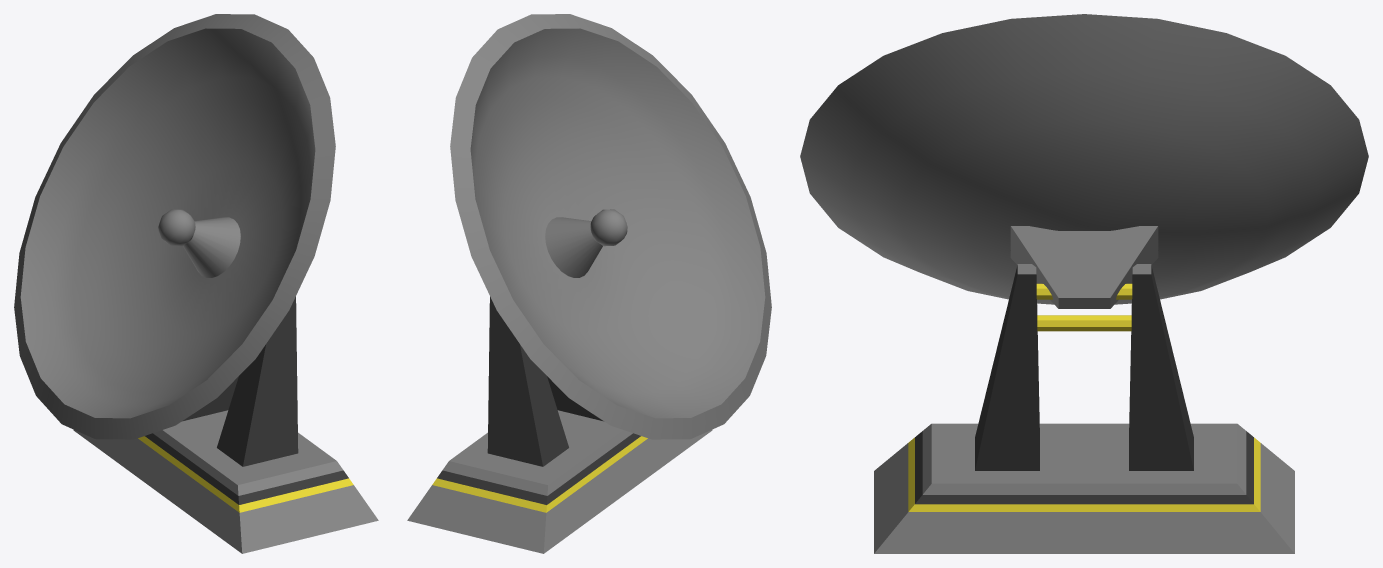
The model's file is satelliteDish.glb.
The picture shows the model from 3 angles, left to right: view 1: azimuth 30°, elevation 25°; view 2: azimuth 150°, elevation 25°; view 3: azimuth 270°, elevation 25°; orthographic projection. The views are drawn at different scales.
Parts seen in each view (by area): view 1: Satallite Dish; view 2: Satallite Dish; view 3: Satallite Dish.
Boxes of the visible parts, x1,y1,x2,y2 form: Satallite Dish: (14, 14, 378, 553); Satallite Dish: (407, 14, 771, 553); Satallite Dish: (800, 14, 1368, 553).
Size of the model in its own units: 0.5334 by 0.944 by 0.9074.
